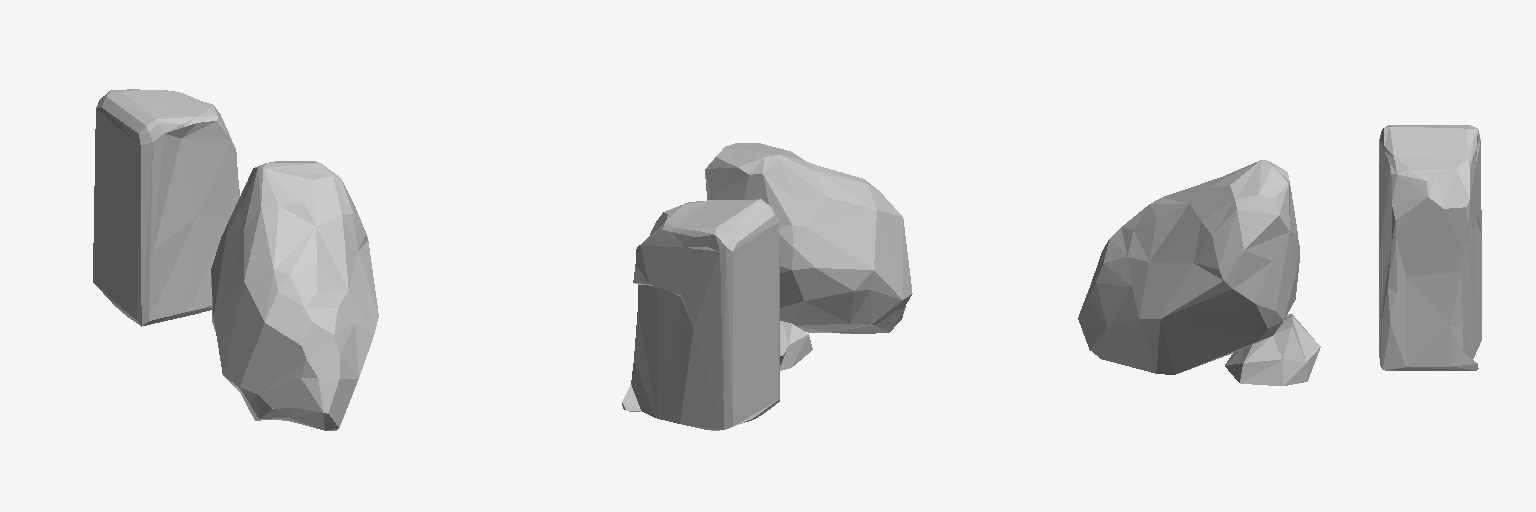
The model's file is stones.obj.
3 renders of one model, left to right at view 1: azimuth 30°, elevation 25°; view 2: azimuth 150°, elevation 25°; view 3: azimuth 270°, elevation 25°, orthographic.
Parts seen in each view (by area): view 1: Cube_lp, SmallRock_lp; view 2: SmallRock_lp, Cube_lp; view 3: Cube_lp, SmallRock_lp.
Part boxes in pixels (left/top/right/bottom): Cube_lp: left=211, top=161, right=378, bottom=430; SmallRock_lp: left=93, top=89, right=239, bottom=326; SmallRock_lp: left=622, top=199, right=779, bottom=430; Cube_lp: left=705, top=143, right=912, bottom=370; Cube_lp: left=1078, top=160, right=1320, bottom=385; SmallRock_lp: left=1379, top=125, right=1481, bottom=370.
Size of the model in its own units: 20.8 by 25.34 by 43.18.